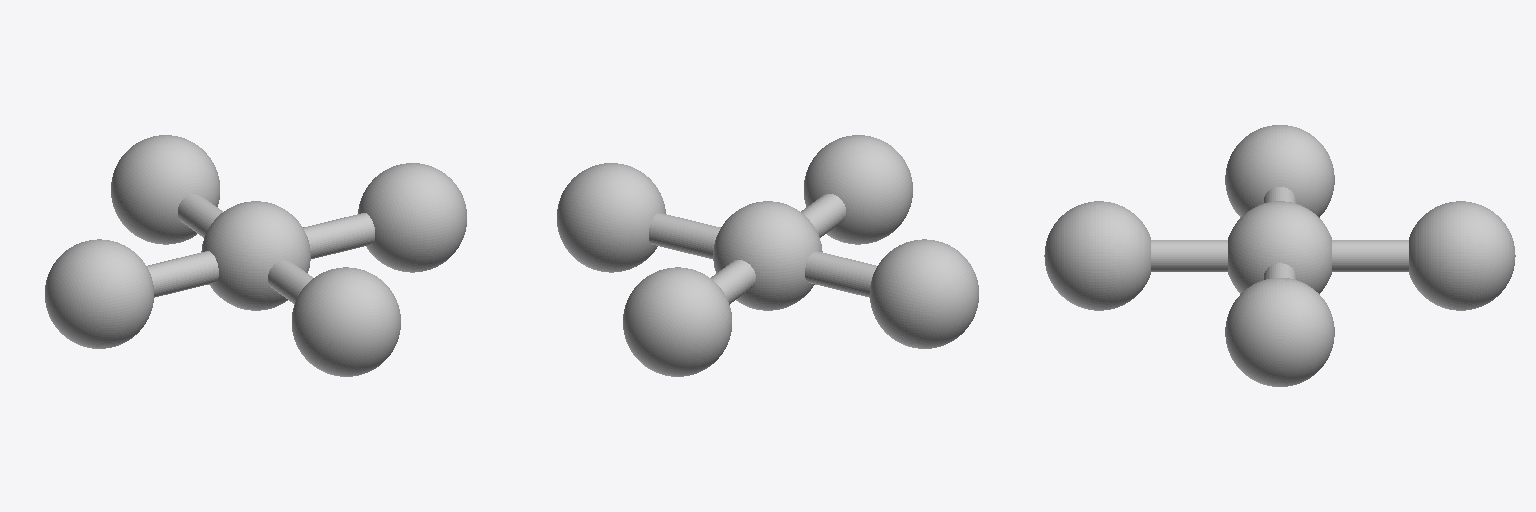
File: XeF4.obj
3 renders of one model, left to right at view 1: azimuth 30°, elevation 25°; view 2: azimuth 150°, elevation 25°; view 3: azimuth 270°, elevation 25°, orthographic.
Visible parts, largest first — view 1: group_4_ID59, group_6_ID85, group_2_ID33, group_8_ID111, group_0_ID3, group_3.002_ID52, group_1.002_ID26, group_1_ID12, group_3_ID40, group_5.002_ID78, group_7_ID92; view 2: group_4_ID59, group_8_ID111, group_2_ID33, group_6_ID85, group_0_ID3, group_3.002_ID52, group_1.002_ID26, group_1_ID12, group_3_ID40, group_7.002_ID104, group_5_ID66; view 3: group_2_ID33, group_8_ID111, group_6_ID85, group_4_ID59, group_0_ID3, group_7.002_ID104, group_5.002_ID78, group_7_ID92, group_5_ID66.
Boxes of the visible parts, <box> form: group_4_ID59: <box>45,239,153,348</box>; group_6_ID85: <box>292,267,400,376</box>; group_2_ID33: <box>358,163,466,272</box>; group_8_ID111: <box>111,135,219,244</box>; group_0_ID3: <box>201,201,310,310</box>; group_3.002_ID52: <box>172,251,218,291</box>; group_1.002_ID26: <box>303,220,345,258</box>; group_1_ID12: <box>336,213,374,251</box>; group_3_ID40: <box>147,260,181,297</box>; group_5.002_ID78: <box>268,260,311,301</box>; group_7_ID92: <box>178,194,217,233</box>; group_4_ID59: <box>870,239,978,348</box>; group_8_ID111: <box>623,267,731,376</box>; group_2_ID33: <box>557,163,665,272</box>; group_6_ID85: <box>804,135,912,244</box>; group_0_ID3: <box>713,201,822,310</box>; group_3.002_ID52: <box>805,251,851,291</box>; group_1.002_ID26: <box>678,220,720,258</box>; group_1_ID12: <box>649,213,687,251</box>; group_3_ID40: <box>842,260,876,297</box>; group_7.002_ID104: <box>712,260,755,301</box>; group_5_ID66: <box>806,194,845,233</box>; group_2_ID33: <box>1225,278,1334,386</box>; group_8_ID111: <box>1409,201,1515,310</box>; group_6_ID85: <box>1044,201,1150,310</box>; group_4_ID59: <box>1225,125,1334,217</box>; group_0_ID3: <box>1228,201,1331,293</box>; group_7.002_ID104: <box>1332,240,1374,271</box>; group_5.002_ID78: <box>1185,240,1227,271</box>; group_7_ID92: <box>1375,240,1408,271</box>; group_5_ID66: <box>1151,240,1184,271</box>.
Size of the model in its own units: 8.6 by 2 by 8.6.